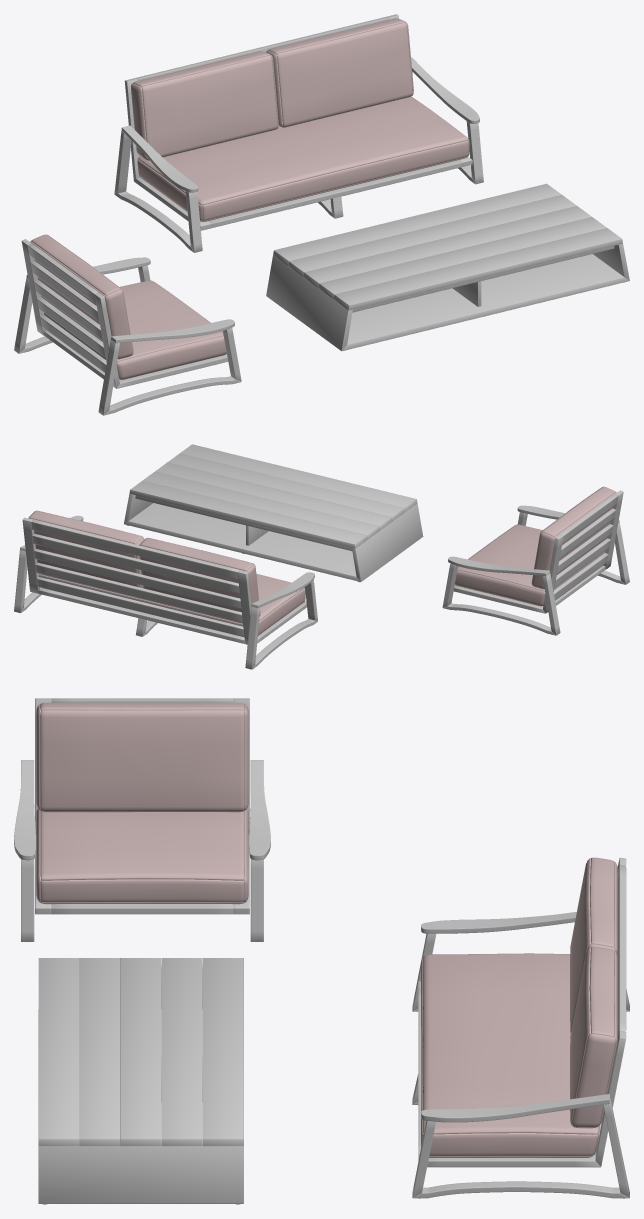
File: sala4.obj
3 views of the same model, one above another, from view 1: azimuth 30°, elevation 25°; view 2: azimuth 150°, elevation 25°; view 3: azimuth 270°, elevation 25° (orthographic). The views are drawn at different scales.
Visible parts, largest first — view 1: Pillow3_1, Wooden_Table_1, Single_Base, Double_Base, Pillow2_1; view 2: Wooden_Table_1, Double_Base, Single_Base, Pillow3_1, Pillow2_1; view 3: Wooden_Table_1, Pillow2_1, Pillow3_1, Double_Base, Single_Base.
Part boxes in pixels (box(x1,y1,x2,y2)): Pillow3_1: box(131, 18, 469, 221); Wooden_Table_1: box(266, 183, 629, 351); Single_Base: box(14, 239, 241, 415); Double_Base: box(114, 14, 483, 252); Pillow2_1: box(30, 234, 226, 379); Wooden_Table_1: box(124, 444, 423, 582); Double_Base: box(14, 515, 317, 669); Single_Base: box(442, 490, 629, 635); Pillow3_1: box(28, 510, 305, 635); Pillow2_1: box(455, 486, 616, 606); Wooden_Table_1: box(38, 958, 243, 1204); Pillow2_1: box(36, 702, 248, 904); Pillow3_1: box(421, 857, 617, 1157); Double_Base: box(412, 857, 629, 1198); Single_Base: box(14, 698, 270, 941).
Bounding box in the file's own units: 370 × 77.9 × 272.
